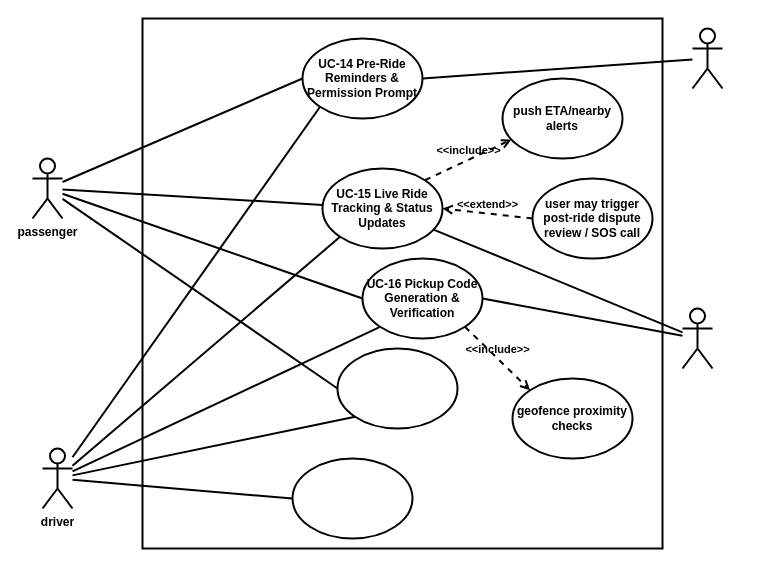
Some shapes in this 779 by 566 pixel diagram are drawn without their labels. The shapes that lost their labels are listed below. From the top down, each one's centre as x and y in pixels, then its label:
At point (707, 58): "NotificationService".
At point (697, 338): "Map API".
At point (397, 388): "UC‑17 Mark as Reached & Payment Process".
At point (352, 498): "UC‑18 Ride Completion Confirmation".
